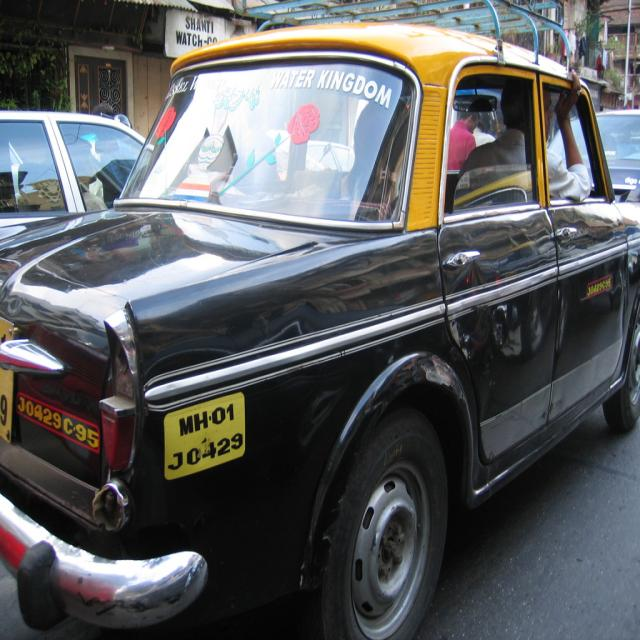car: (8, 18, 613, 639), (0, 104, 157, 238), (545, 109, 639, 206)
